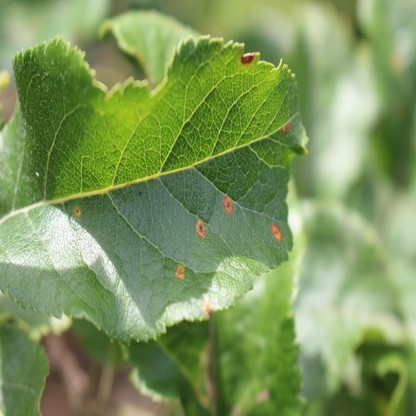rust: (222, 196, 233, 215), (201, 298, 212, 316), (271, 223, 282, 241), (195, 218, 205, 237), (174, 264, 186, 279), (242, 52, 254, 64), (74, 205, 80, 217), (282, 123, 290, 132)
